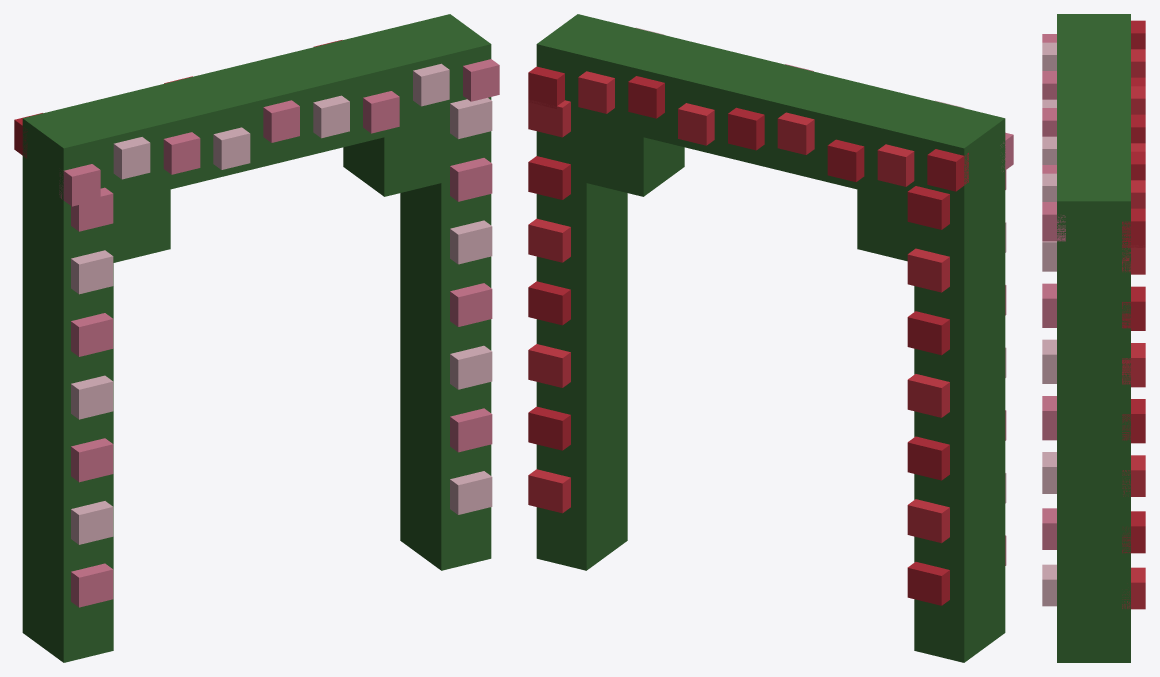
File: ld-rose-arch.glb
3 renders of one model, left to right at view 1: azimuth 30°, elevation 25°; view 2: azimuth 150°, elevation 25°; view 3: azimuth 270°, elevation 25°, orthographic. The views are drawn at different scales.
Visible parts, largest first — view 1: box-prop; view 2: box-prop; view 3: box-prop.
Part boxes in pixels (bbox=[...]): box-prop: bbox=[14, 14, 499, 662]; box-prop: bbox=[528, 14, 1013, 662]; box-prop: bbox=[1042, 14, 1145, 662].
Bounding box in the file's own units: 3 × 3.45 × 0.7.
